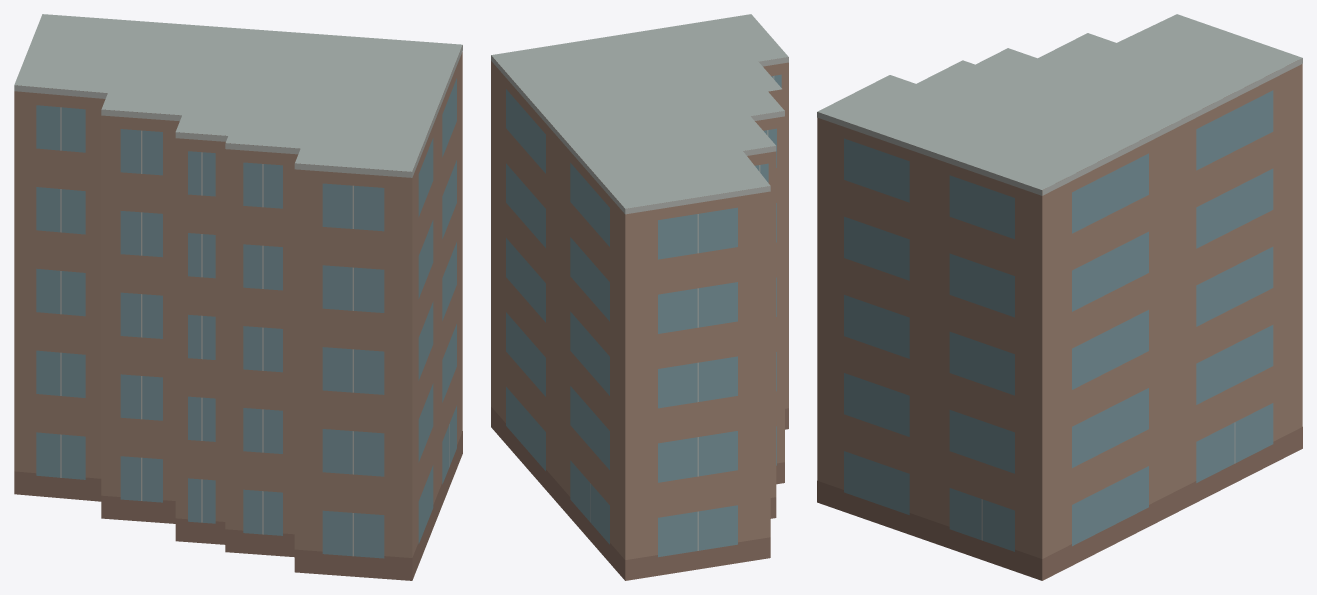
The model's file is survey-upis-32842807.glb.
3 renders of one model, left to right at view 1: azimuth 30°, elevation 25°; view 2: azimuth 150°, elevation 25°; view 3: azimuth 270°, elevation 25°, orthographic. The views are drawn at different scales.
Parts seen in each view (by area): view 1: survey-upis-32842807.tmp; view 2: survey-upis-32842807.tmp; view 3: survey-upis-32842807.tmp.
Part boxes in pixels (x1=…): survey-upis-32842807.tmp: x1=14, y1=14, x2=462, y2=580; survey-upis-32842807.tmp: x1=491, y1=14, x2=788, y2=580; survey-upis-32842807.tmp: x1=817, y1=14, x2=1302, y2=580.
Size of the model in its own units: 15.97 by 16.5 by 18.59.
